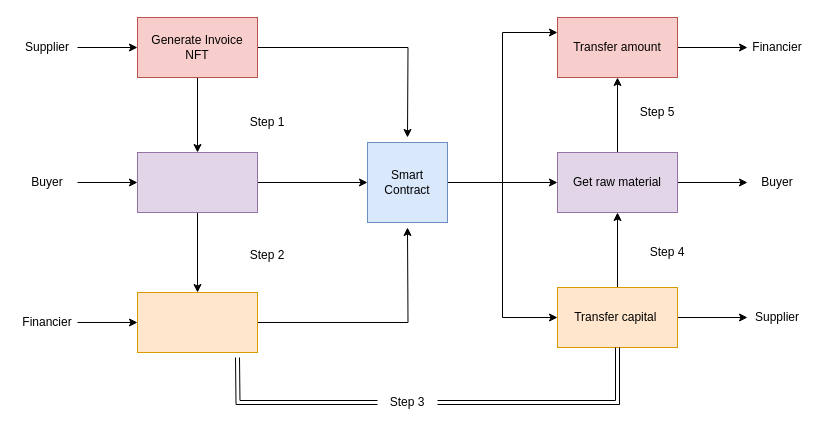
This 824x435 diagram has some shape labels left out. The centre of each missing label's shape, as x and y in pixels:
Reverse Auction: Lowest Interest Financier Wins: the point at 197,322
Verify Invoice and show in marketplace: the point at 197,182
